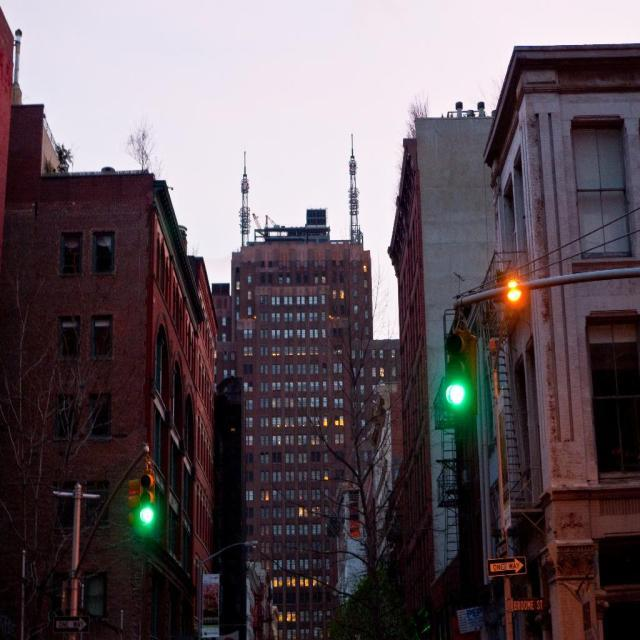traffic light: (445, 331, 470, 409), (140, 467, 156, 527), (129, 478, 140, 529)
